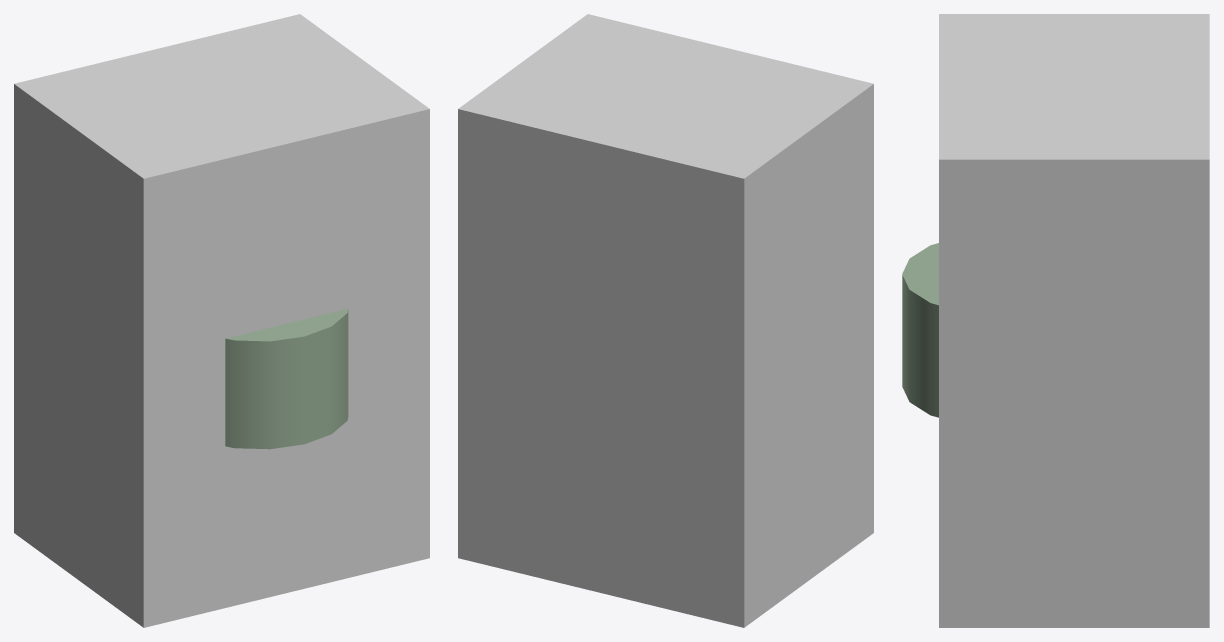
Rendered from wall-sconce_retail.glb.
The picture shows the model from 3 angles, left to right: view 1: azimuth 30°, elevation 25°; view 2: azimuth 150°, elevation 25°; view 3: azimuth 270°, elevation 25°; orthographic projection. The views are drawn at different scales.
Parts seen in each view (by area): view 1: COL_wall-sconce, MESH_Shade; view 2: COL_wall-sconce; view 3: COL_wall-sconce, MESH_Shade.
Boxes of the visible parts, left/top/right/bottom form: COL_wall-sconce: left=14, top=14, right=429, bottom=627; MESH_Shade: left=225, top=308, right=348, bottom=449; COL_wall-sconce: left=458, top=14, right=873, bottom=627; COL_wall-sconce: left=939, top=14, right=1209, bottom=627; MESH_Shade: left=902, top=243, right=938, bottom=417.
Size of the model in its own units: 0.28 by 0.42 by 0.25.
